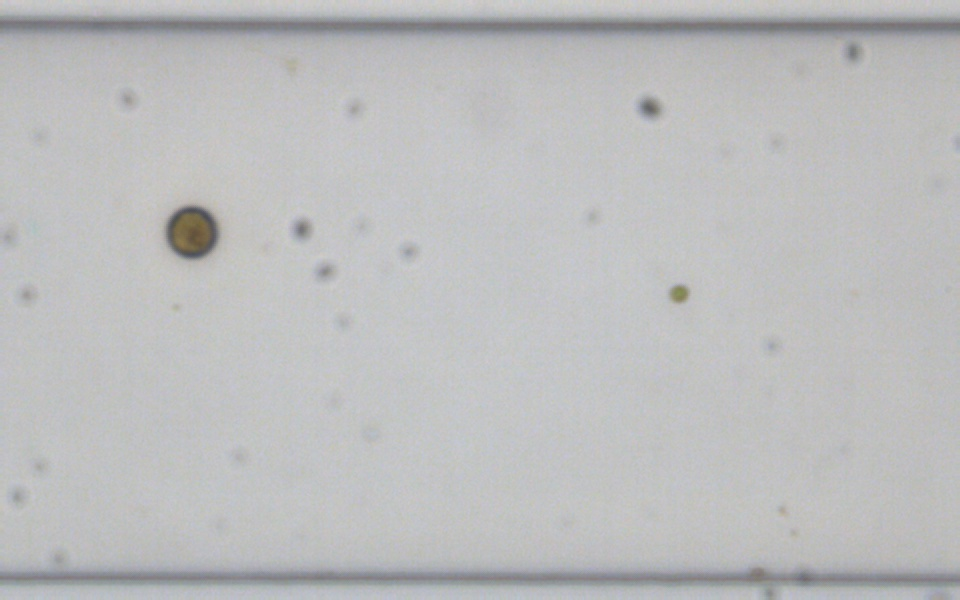Chlorella: (668, 282, 689, 303)
Effrenium: (161, 202, 221, 262)
